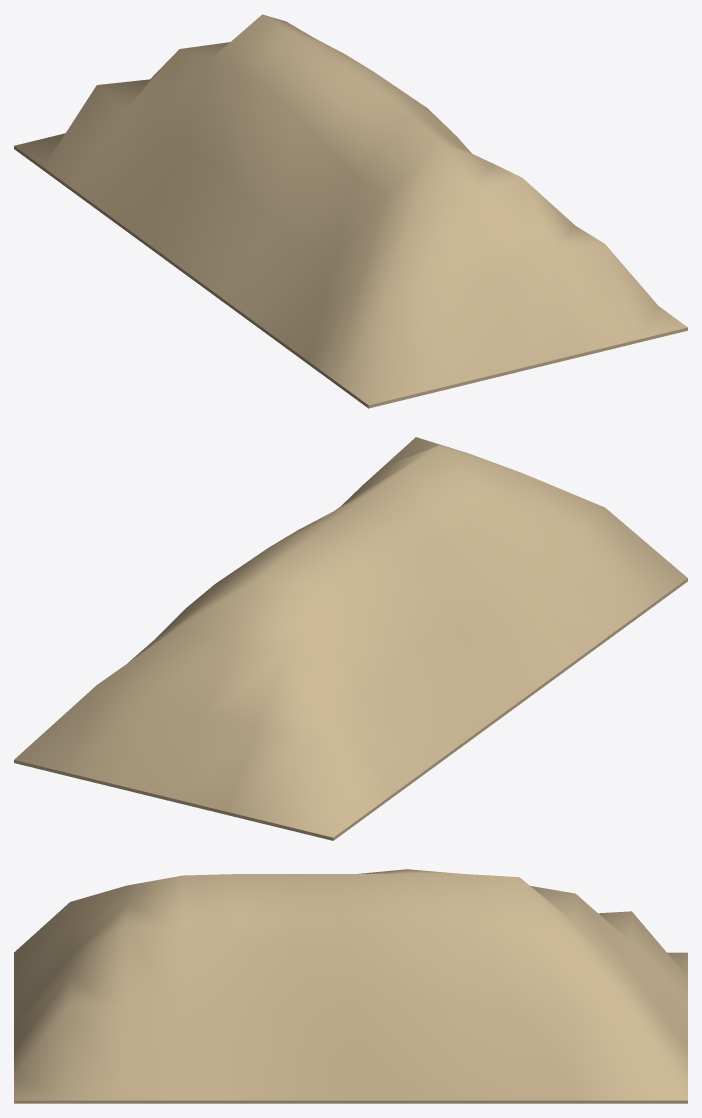
The model's file is port_cargo4.fbx.
3 renders of one model, top to bottom at view 1: azimuth 30°, elevation 25°; view 2: azimuth 150°, elevation 25°; view 3: azimuth 270°, elevation 25°, orthographic. The views are drawn at different scales.
Parts seen in each view (by area): view 1: a401_0_port_cargo4; view 2: a401_0_port_cargo4; view 3: a401_0_port_cargo4.
Part boxes in pixels (x1,y1,x2,y2): a401_0_port_cargo4: [14, 14, 687, 408]; a401_0_port_cargo4: [14, 437, 687, 840]; a401_0_port_cargo4: [14, 869, 687, 1103].
Size of the model in its own units: 5.2 by 2.55 by 10.
